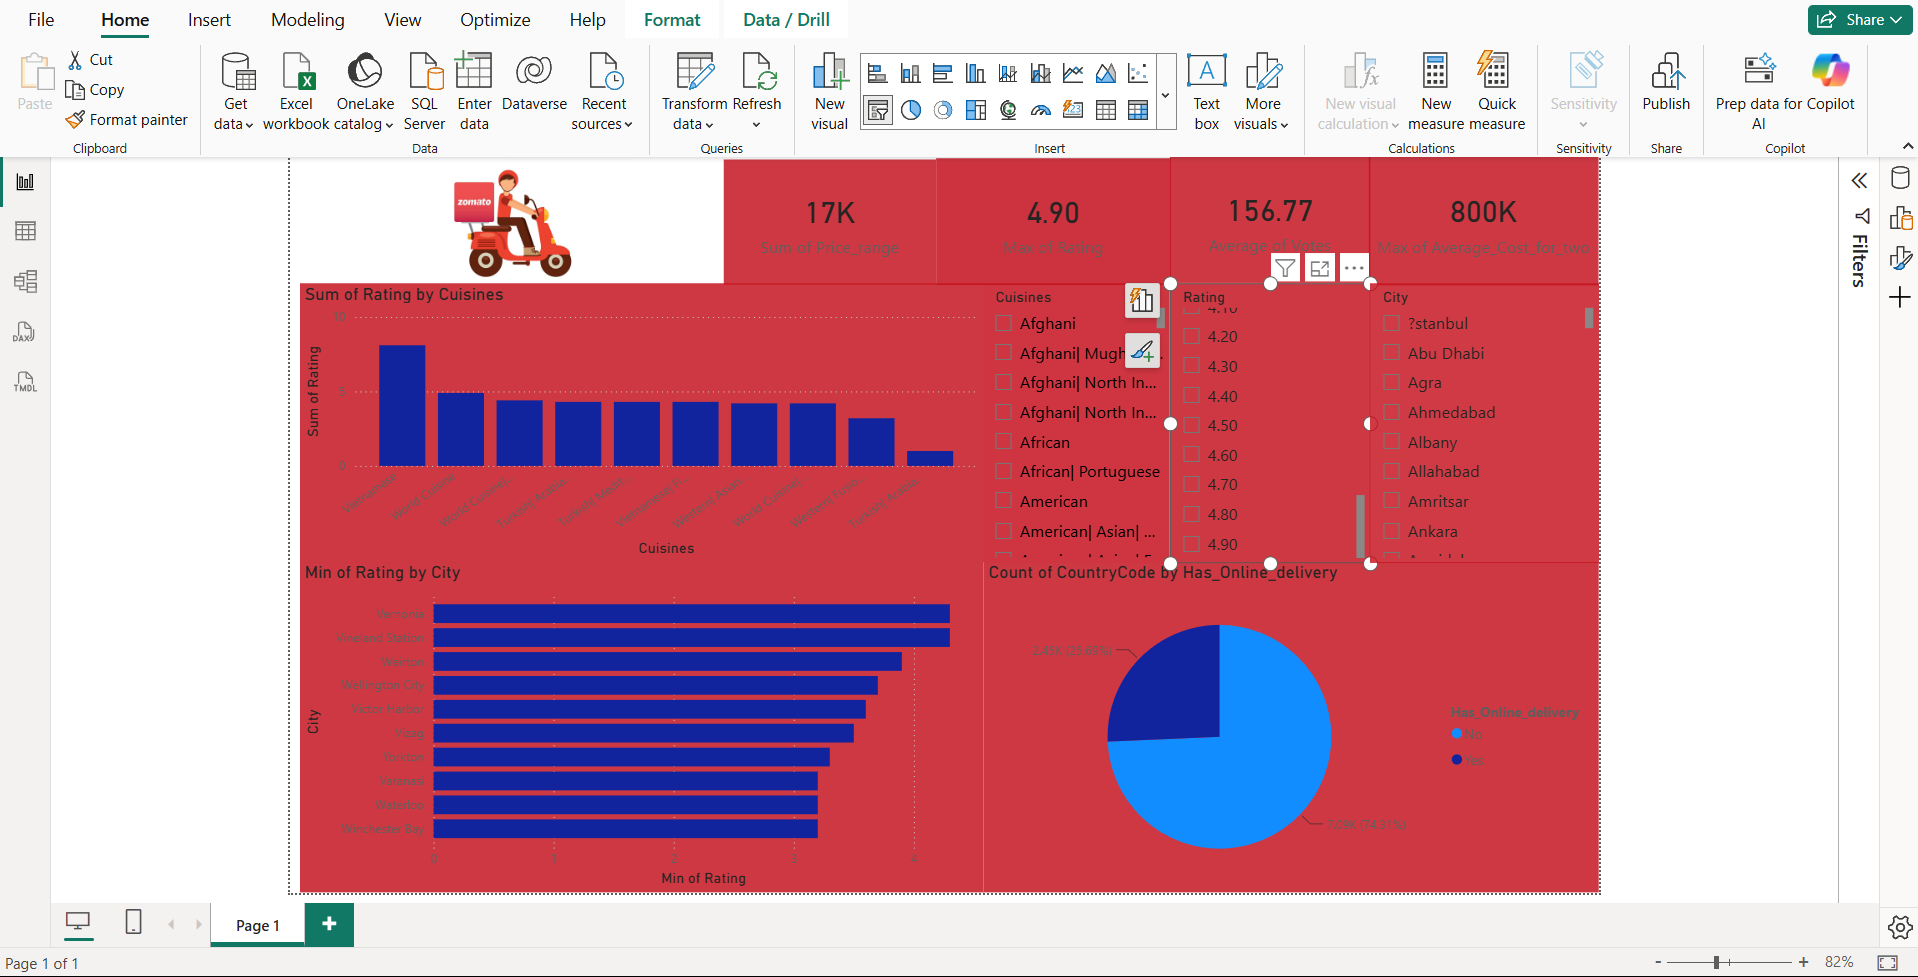

Layout of this report page (visuals, bound fields, positions):
{"tool":"powerbi","page":{"name":"Page 1","canvas":[1280,720],"ordinal":0},"visuals":[{"type":"image","box":[0,2.9,424.2,122.6],"z":0},{"type":"card","fields":{"Values":["Sum(Zomato_Dataset.Price_range)"]},"box":[424.2,2.9,207.8,122.6],"z":1000},{"type":"card","fields":{"Values":["Max(Zomato_Dataset.Rating)"]},"box":[631.9,1.4,229.4,124.1],"z":2000},{"type":"card","fields":{"Values":["Avg(Zomato_Dataset.Votes)"]},"box":[860.9,0,195.7,123.5],"z":3000},{"type":"card","fields":{"Values":["Max(Zomato_Dataset.Average_Cost_for_two)"]},"box":[1055.3,0,225,126],"z":4000},{"type":"clusteredBarChart","fields":{"Category":["Zomato_Dataset.City"],"Y":["Min(Zomato_Dataset.Rating)"]},"box":[10,396.8,668.4,322.8],"z":5000},{"type":"pieChart","fields":{"Category":["Zomato_Dataset.Has_Online_delivery"],"Y":["CountNonNull(Zomato_Dataset.CountryCode)"]},"box":[678.1,396.8,601.6,323.2],"z":6000},{"type":"columnChart","fields":{"Category":["Zomato_Dataset.Cuisines"],"Y":["Sum(Zomato_Dataset.Rating)"]},"box":[10.1,124.1,668,272.7],"z":7000},{"type":"slicer","fields":{"Values":["Zomato_Dataset.Cuisines"]},"box":[677.4,123.5,183.4,272.7],"z":7001},{"type":"slicer","fields":{"Values":["Zomato_Dataset.Rating"]},"box":[860.9,123.5,195.7,273.9],"z":7002},{"type":"slicer","fields":{"Values":["Zomato_Dataset.City"]},"box":[1056.5,123.5,223.8,273.9],"z":7003}]}

Visuals, with their boxes on the page's 1280x720 design canvas (x1, y1, x2, y2). These are canvas units, not pixel positions in the 1918x977 screenshot, which may show the page scaled, cropped or inside an application window:
image: l=0, t=3, r=424, b=126
card - Sum(Zomato_Dataset.Price_range): l=424, t=3, r=632, b=126
card - Max(Zomato_Dataset.Rating): l=632, t=1, r=861, b=126
card - Avg(Zomato_Dataset.Votes): l=861, t=0, r=1057, b=124
card - Max(Zomato_Dataset.Average_Cost_for_two): l=1055, t=0, r=1280, b=126
clusteredBarChart - Zomato_Dataset.City x Min(Zomato_Dataset.Rating): l=10, t=397, r=678, b=720
pieChart - Zomato_Dataset.Has_Online_delivery x CountNonNull(Zomato_Dataset.CountryCode): l=678, t=397, r=1280, b=720
columnChart - Zomato_Dataset.Cuisines x Sum(Zomato_Dataset.Rating): l=10, t=124, r=678, b=397
slicer - Zomato_Dataset.Cuisines: l=677, t=124, r=861, b=396
slicer - Zomato_Dataset.Rating: l=861, t=124, r=1057, b=397
slicer - Zomato_Dataset.City: l=1056, t=124, r=1280, b=397
